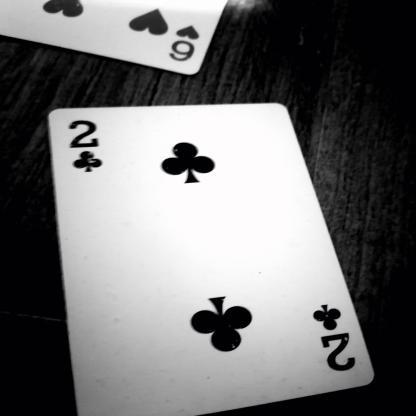2C: (307, 295, 370, 384), (60, 112, 113, 190)
